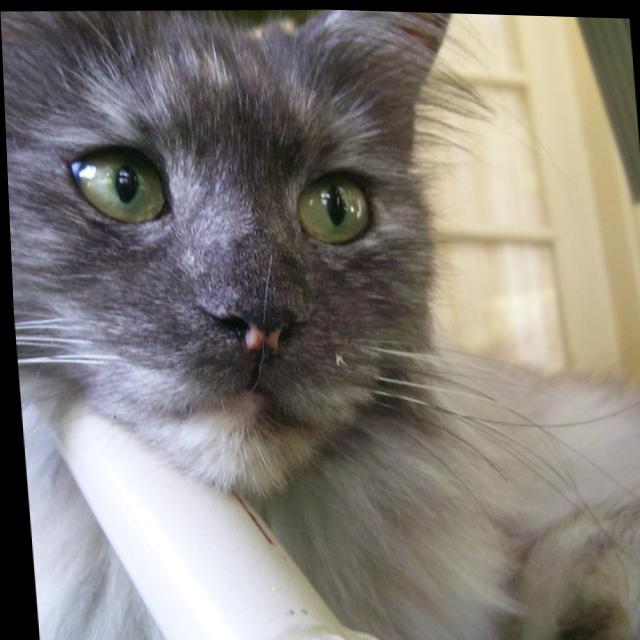animals: (0, 0, 500, 369)
